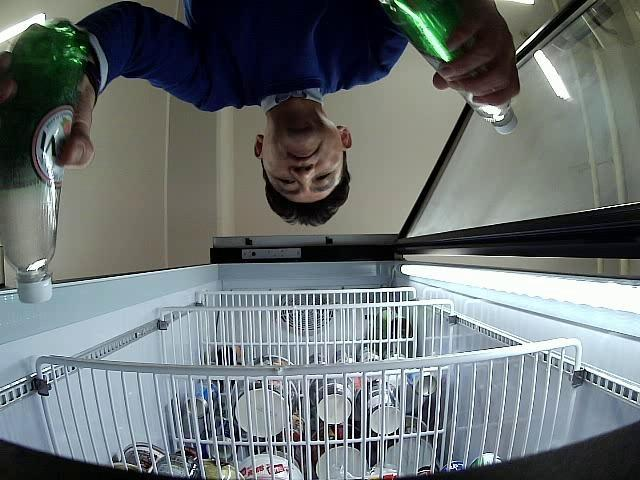18_trevi: (0, 20, 86, 302), (382, 0, 518, 135)
